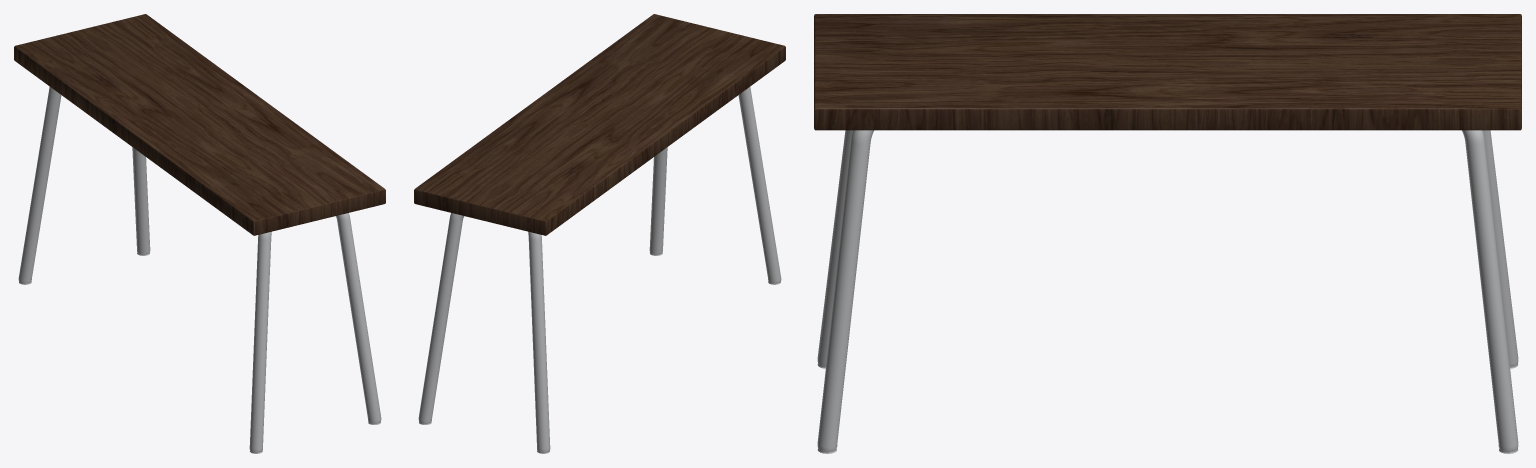
File: wood_table.fbx
3 renders of one model, left to right at view 1: azimuth 30°, elevation 25°; view 2: azimuth 150°, elevation 25°; view 3: azimuth 270°, elevation 25°, orthographic. The views are drawn at different scales.
Visible parts, largest first — view 1: wooden table; view 2: wooden table; view 3: wooden table.
Part boxes in pixels (left/top/right/bottom): wooden table: left=14, top=14, right=385, bottom=453; wooden table: left=414, top=14, right=785, bottom=453; wooden table: left=814, top=14, right=1521, bottom=453.
Size of the model in its own units: 63.65 by 108 by 200.
Materials: 1 (1 with a texture image).
